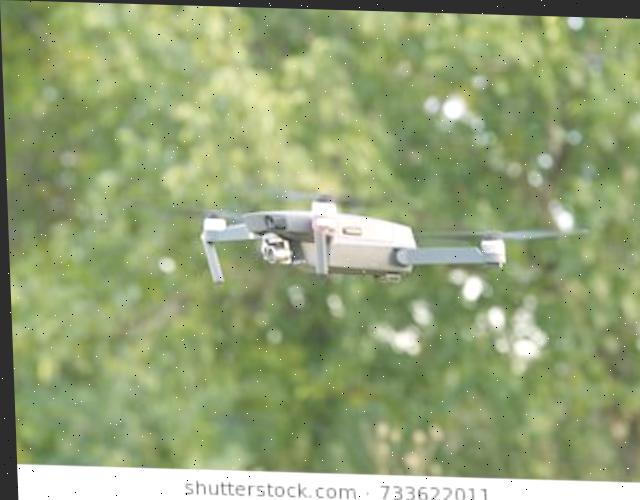drone: (114, 131, 597, 344)
